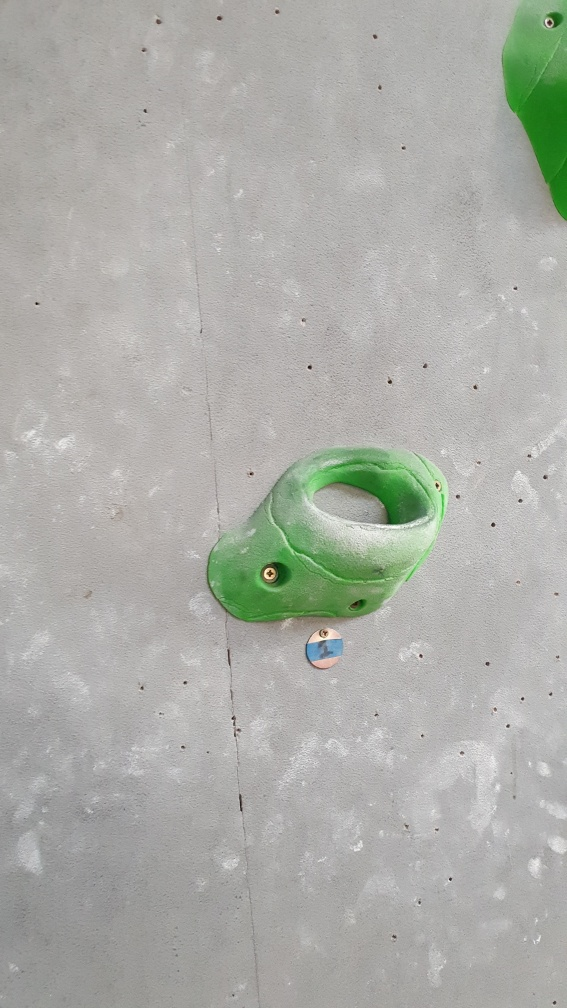Hand Start: (299, 628, 346, 676)
Pocket: (204, 438, 451, 626)
